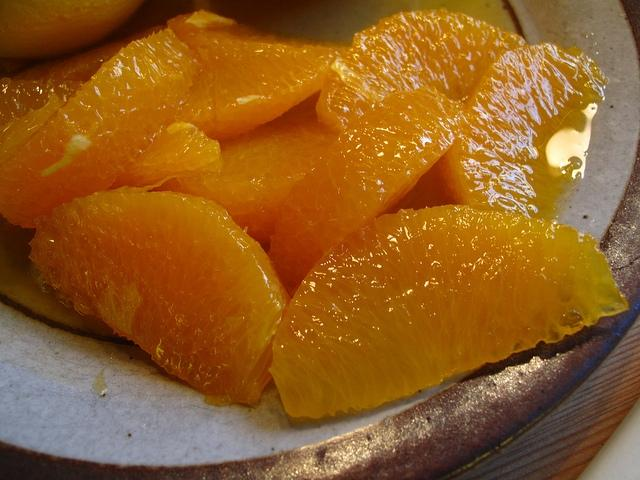orange: (268, 204, 629, 419), (27, 192, 291, 406), (267, 86, 467, 299), (38, 9, 350, 142), (0, 28, 206, 229), (436, 42, 609, 224), (148, 90, 336, 255), (317, 8, 528, 134), (0, 0, 147, 59), (107, 121, 222, 190), (0, 76, 84, 126), (390, 162, 458, 214)
